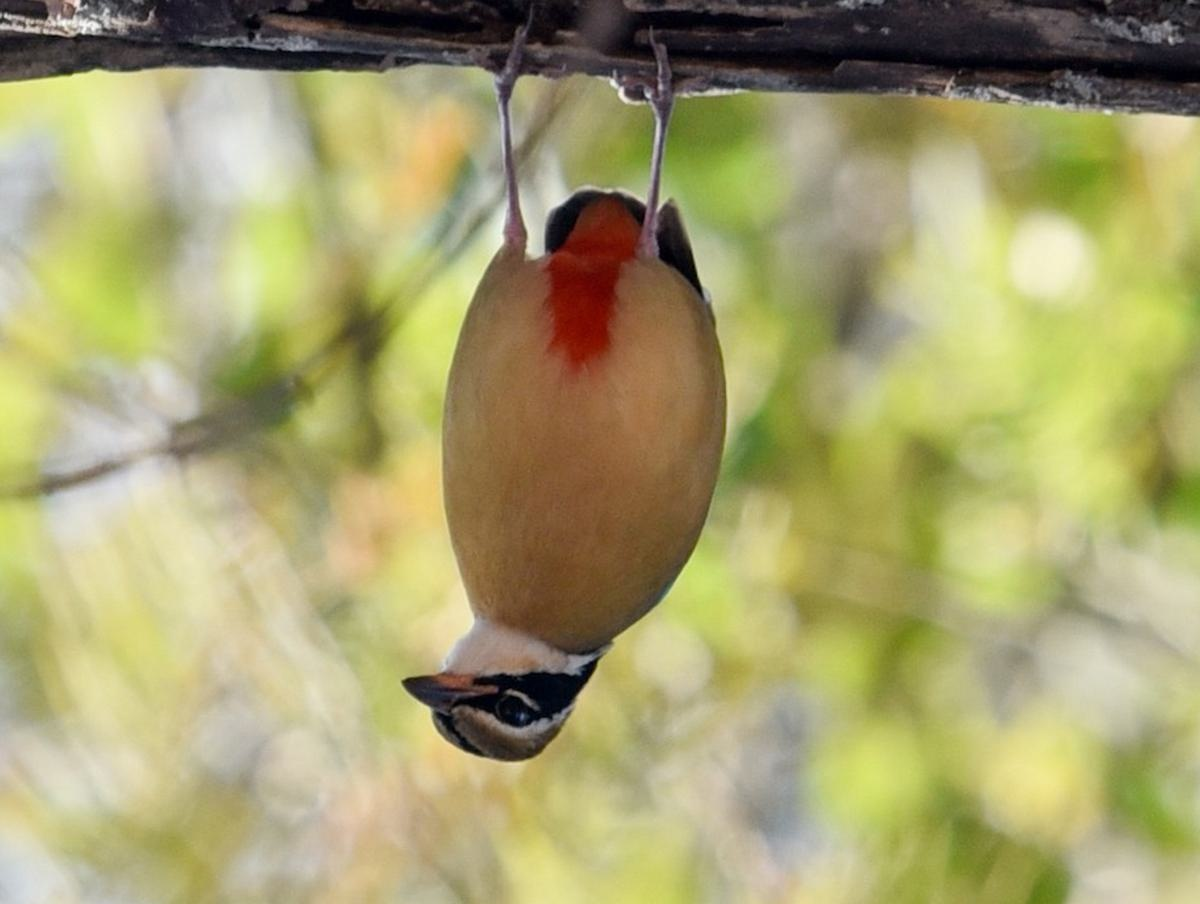pitta: (366, 35, 793, 800)
